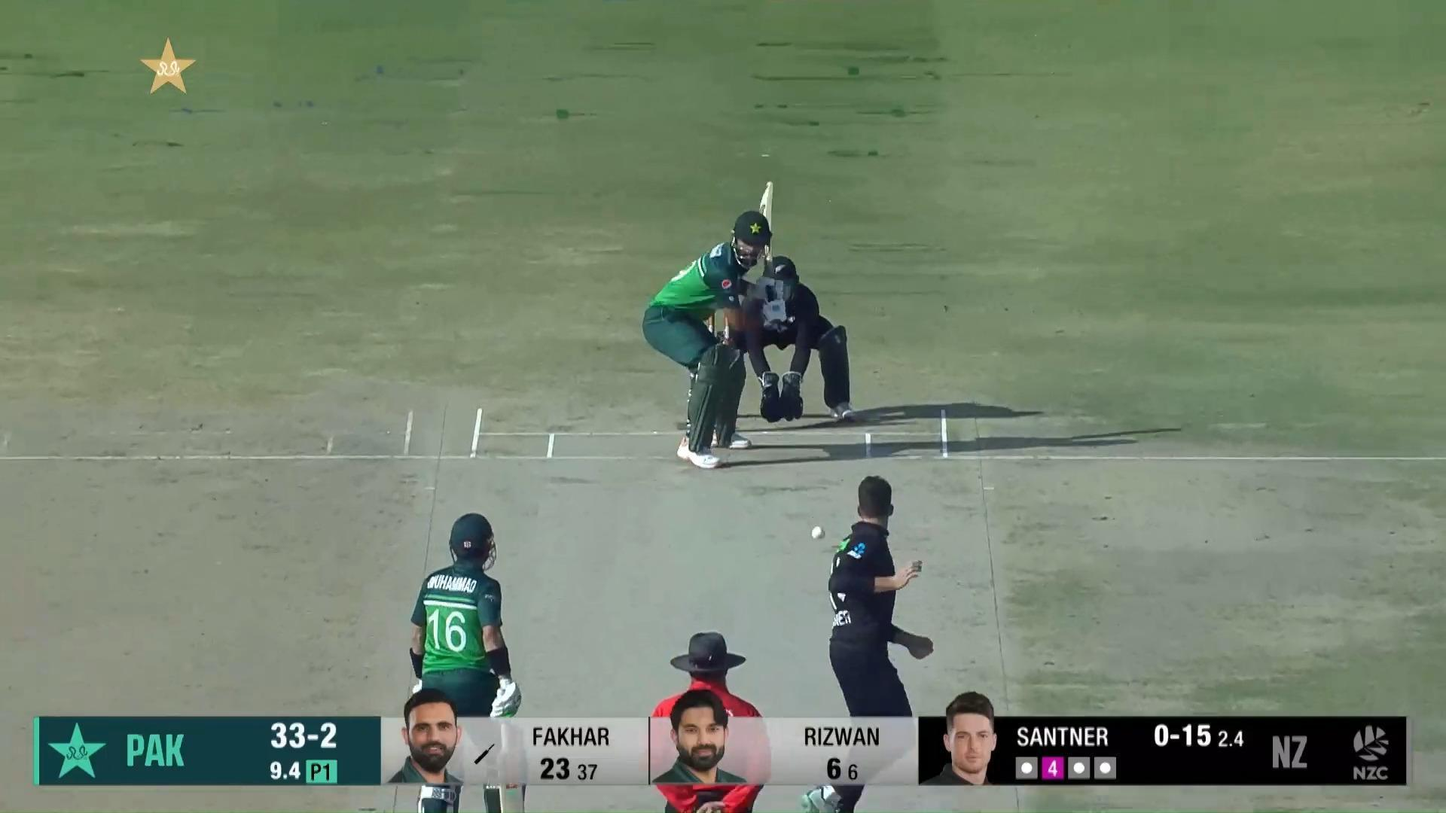BM 1: (640, 178, 791, 471)
BO: (800, 477, 934, 813)
